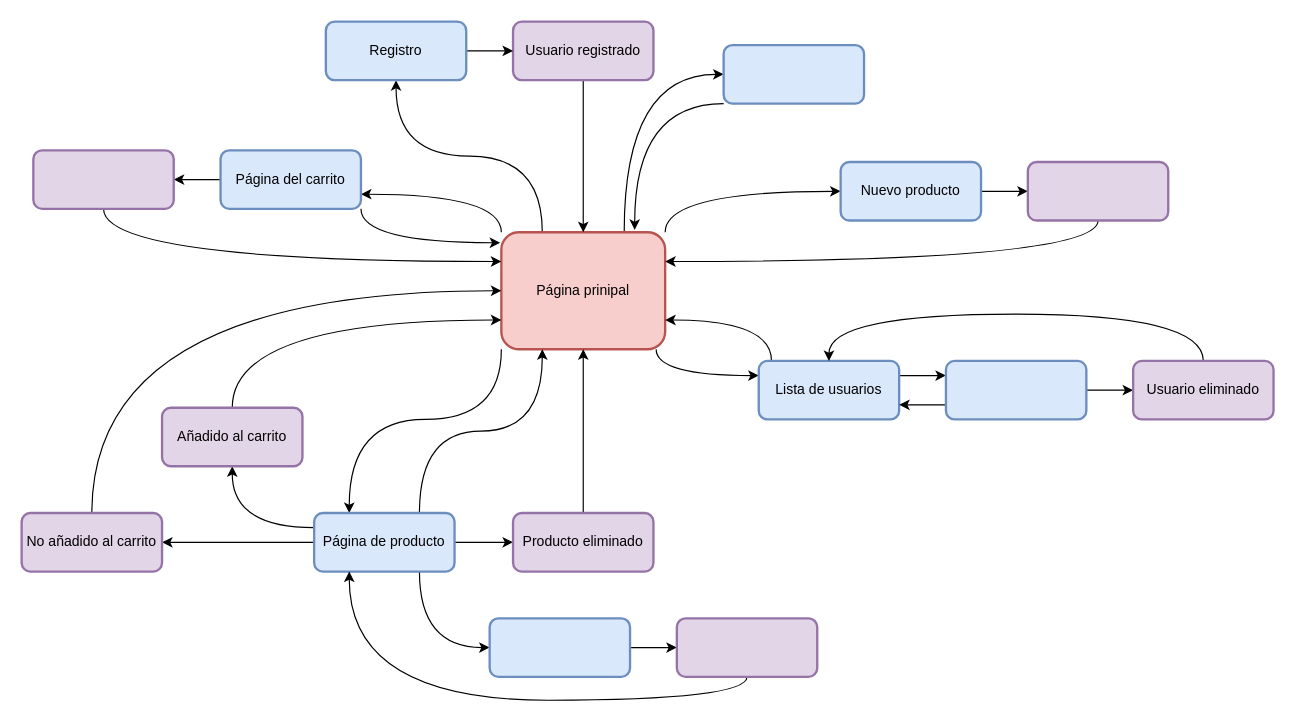
This 1294x721 diagram has some shape labels left out. The shapes that lost their labels are listed below. From the top down, each one's centre as x and y in pixels, then its label:
At [793,73]: "Inicio de sesión".
At [103,179]: "Compra finalizada".
At [1097,190]: "Producto guardado".
At [1015,389]: "Página de usuario".
At [559,647]: "Introducción de valoración".
At [746,647]: "Valoración enviada".
